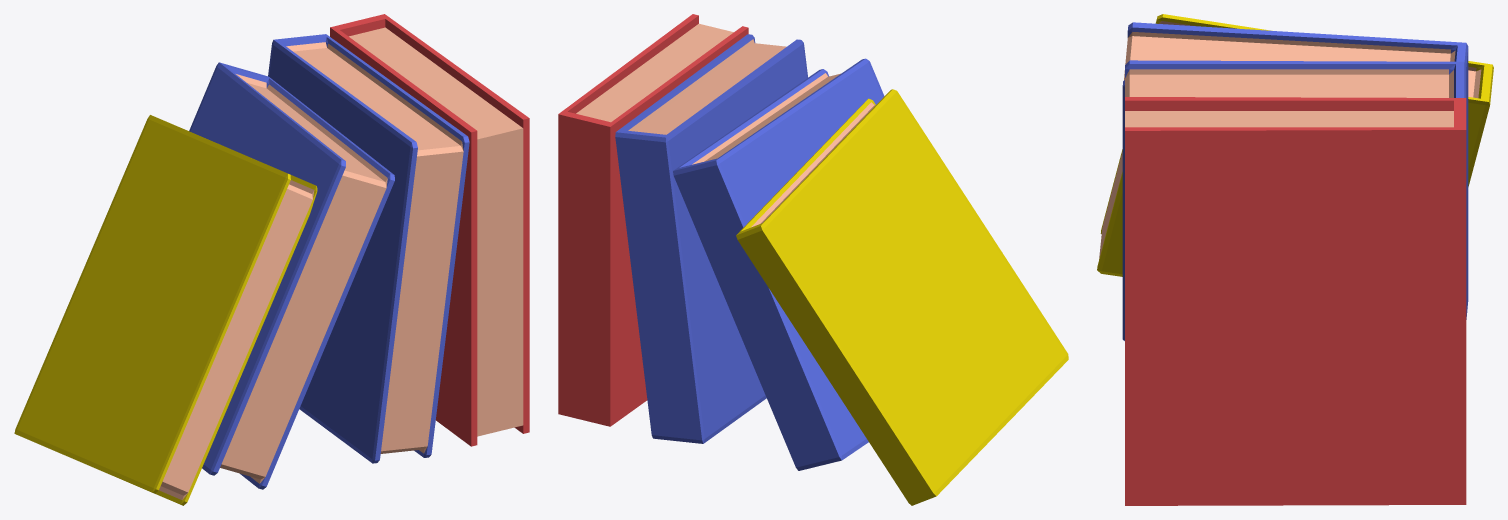
File: Book_stack_2_001.glb
3 renders of one model, left to right at view 1: azimuth 30°, elevation 25°; view 2: azimuth 150°, elevation 25°; view 3: azimuth 270°, elevation 25°, orthographic. The views are drawn at different scales.
Parts seen in each view (by area): view 1: Book_stack_2_001; view 2: Book_stack_2_001; view 3: Book_stack_2_001.
Part boxes in pixels (x1,y1,x2,y2): Book_stack_2_001: (14,14,529,505); Book_stack_2_001: (558,14,1068,505); Book_stack_2_001: (1097,14,1493,505).
Bounding box in the file's own units: 1.02 × 0.856 × 0.7655.
